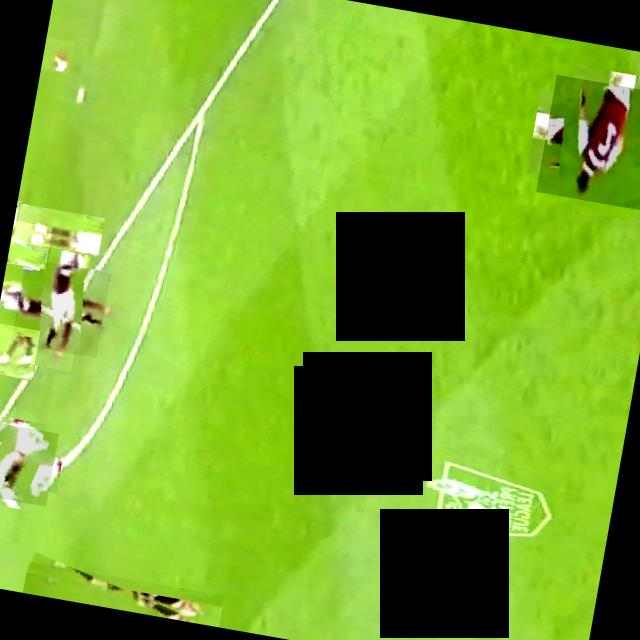soccer-player: (534, 74, 640, 212), (21, 560, 222, 626), (9, 258, 110, 358), (10, 202, 104, 255), (0, 420, 57, 506), (5, 220, 51, 269), (0, 322, 39, 379), (40, 36, 74, 74), (10, 200, 20, 234)
